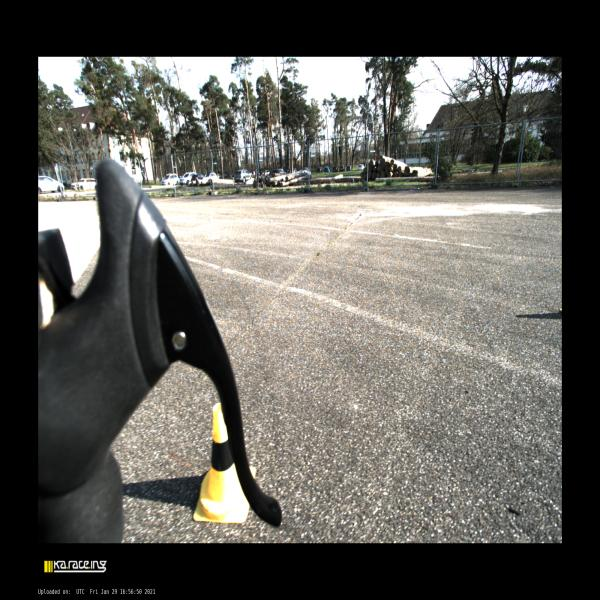yellow_cone: (193, 404, 256, 522)
